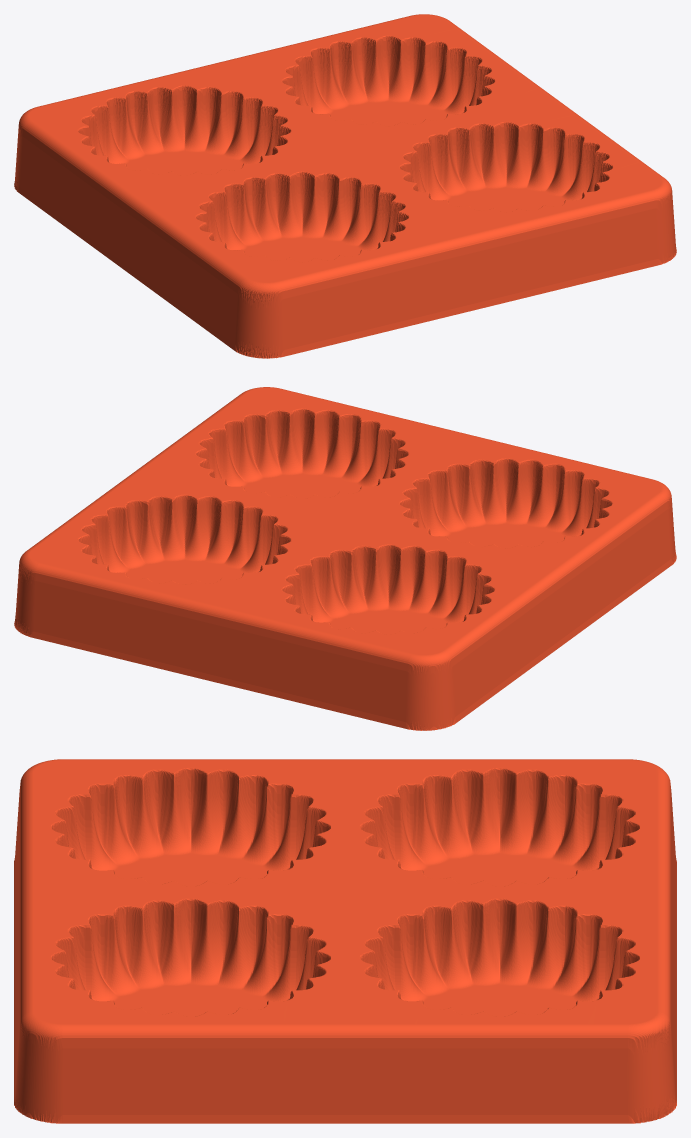
File: mold.glb
3 views of the same model, one above another, from view 1: azimuth 30°, elevation 25°; view 2: azimuth 150°, elevation 25°; view 3: azimuth 270°, elevation 25° (orthographic). The views are drawn at different scales.
Parts seen in each view (by area): view 1: geometry_0; view 2: geometry_0; view 3: geometry_0.
Part boxes in pixels (x1,y1,x2,y2): geometry_0: (14, 14, 676, 358); geometry_0: (14, 387, 676, 730); geometry_0: (14, 759, 676, 1123).
Bounding box in the file's own units: 0.1218 × 0.0185 × 0.1218.
